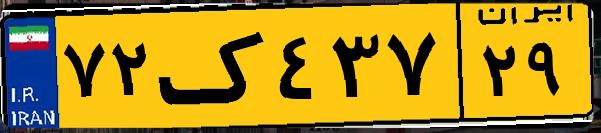2: (475, 38, 525, 113), (110, 28, 158, 98)
3: (330, 28, 385, 110)
4: (270, 28, 330, 110)
7: (385, 28, 445, 110), (57, 26, 110, 100)
9: (525, 38, 570, 115)
ک: (158, 12, 270, 120)
